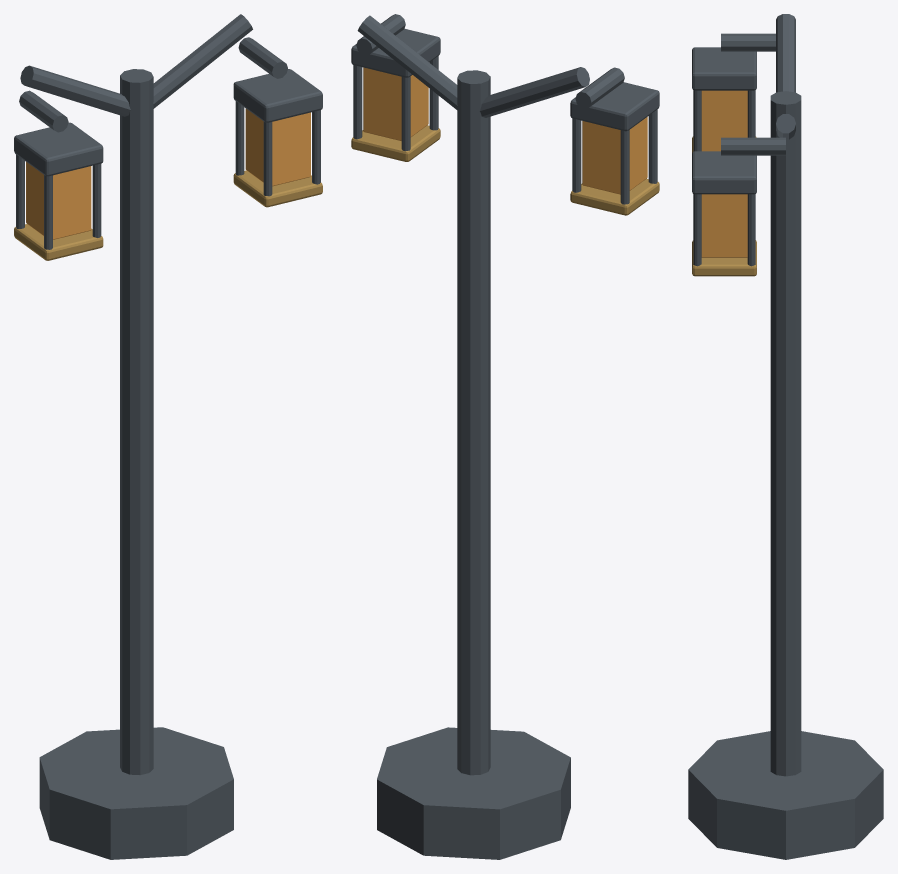
File: dungeon_chain_lamp.glb
The picture shows the model from 3 angles, left to right: view 1: azimuth 30°, elevation 25°; view 2: azimuth 150°, elevation 25°; view 3: azimuth 270°, elevation 25°; orthographic projection. The views are drawn at different scales.
Visible parts, largest first — view 1: Body.030; view 2: Body.030; view 3: Body.030.
Boxes of the visible parts, <box> form: Body.030: <box>14,14,322,859</box>; Body.030: <box>351,14,659,859</box>; Body.030: <box>688,14,883,859</box>.
Bounding box in the file's own units: 0.86 × 2.3 × 0.54.
